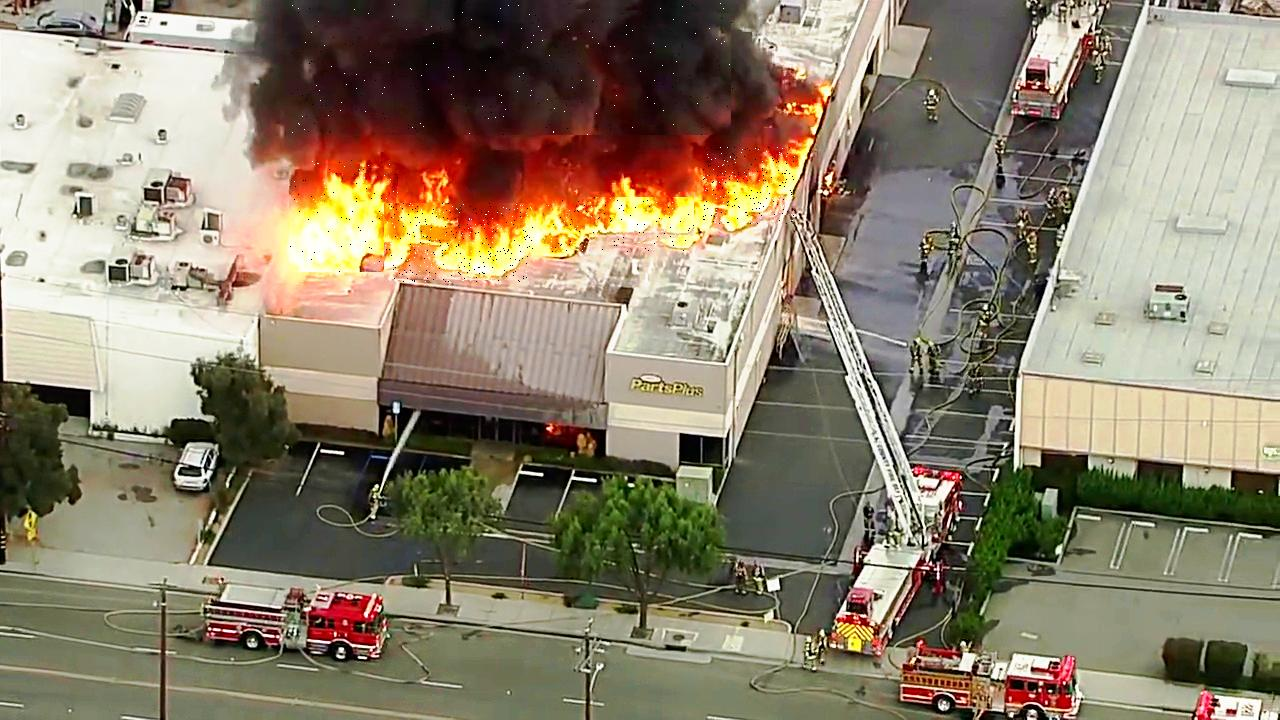fire: (289, 159, 399, 272), (385, 204, 534, 283), (547, 197, 694, 252), (703, 147, 795, 224)
smoke: (287, 0, 734, 135)
